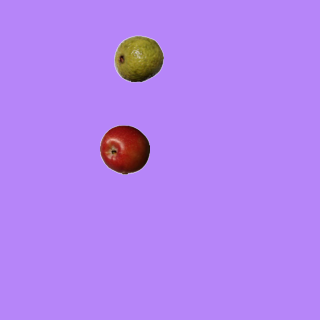Apple Braeburn: (99, 124, 149, 174)
Guava: (113, 33, 163, 83)
